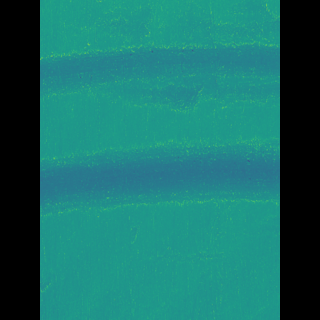Loch: (68, 140, 251, 216), (68, 41, 250, 105)
